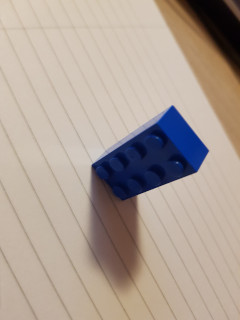2x4 blue: (90, 105, 211, 203)
